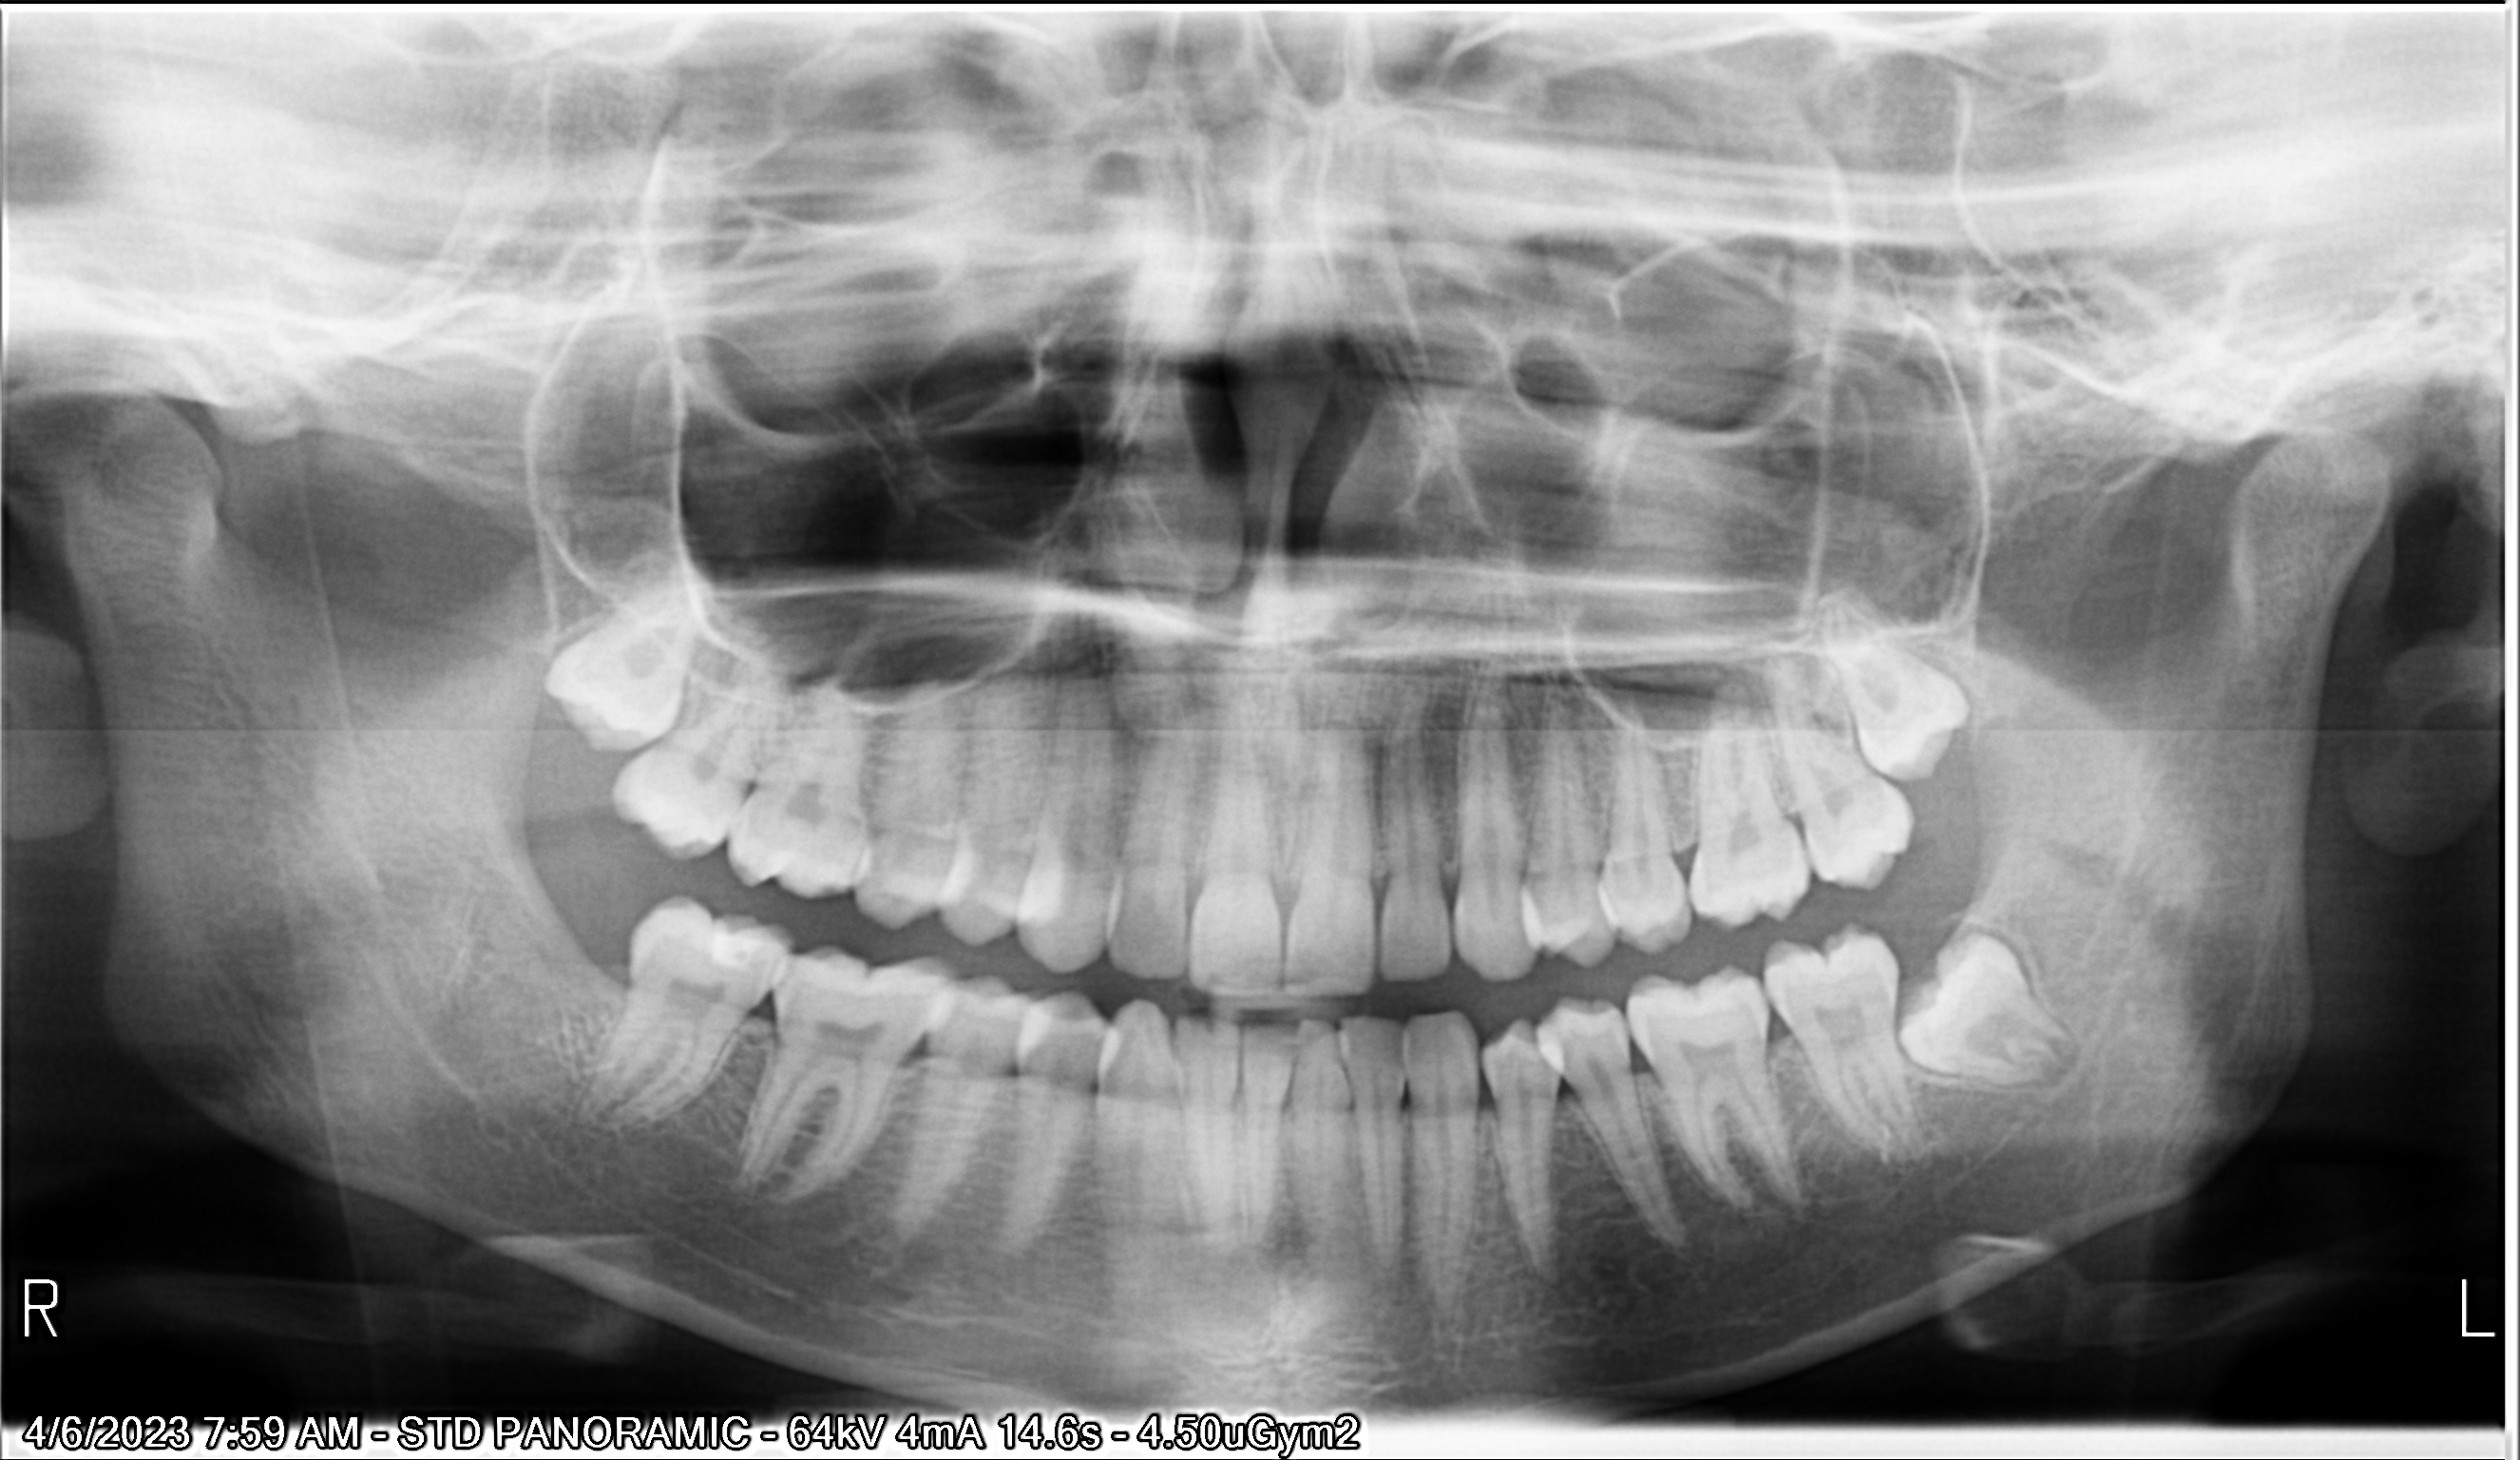IMT: (516, 532, 702, 754), (1804, 579, 1990, 798), (1897, 923, 2081, 1119)
OBT: (716, 904, 790, 975)
